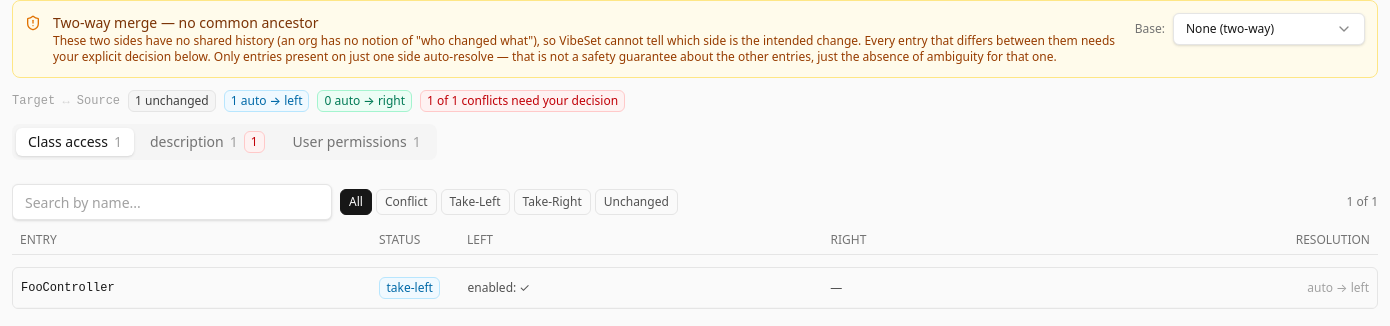
Test case: MergeResolutionPanel › accepting a conflict updates the open-conflict count in the summary strip
expect the text "1 of 1 conflicts need your decision" is shown: met, box x1=420 y1=90 x2=625 y2=112
Step 1. Click the tab "description 1 1" → (207, 142), box x1=138 y1=127 x2=277 y2=157
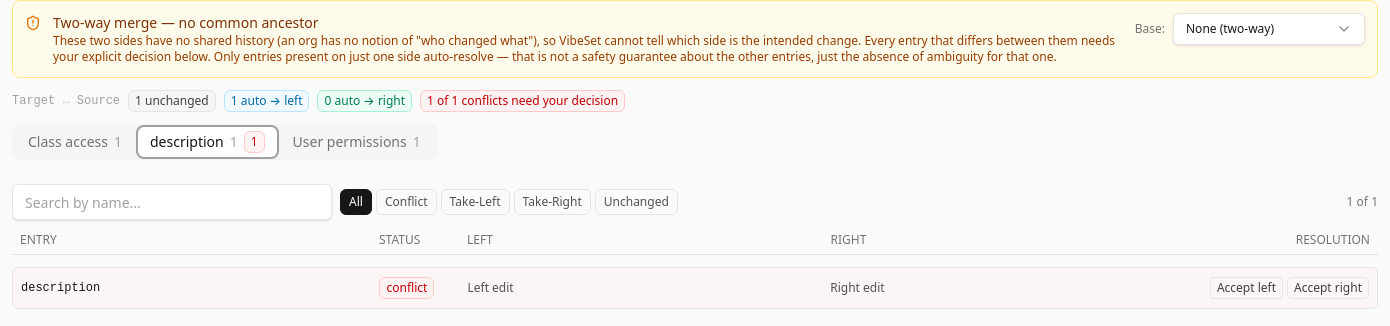
Step 2. Click the button "Accept left" → (1246, 288), box x1=1210 y1=276 x2=1283 y2=298
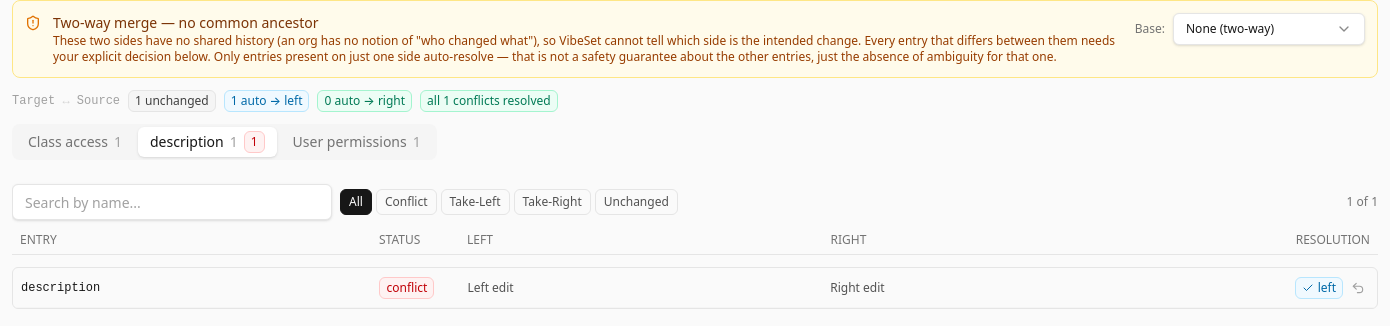
expect the text "all 1 conflicts resolved" is shown: met, box x1=420 y1=90 x2=558 y2=112
